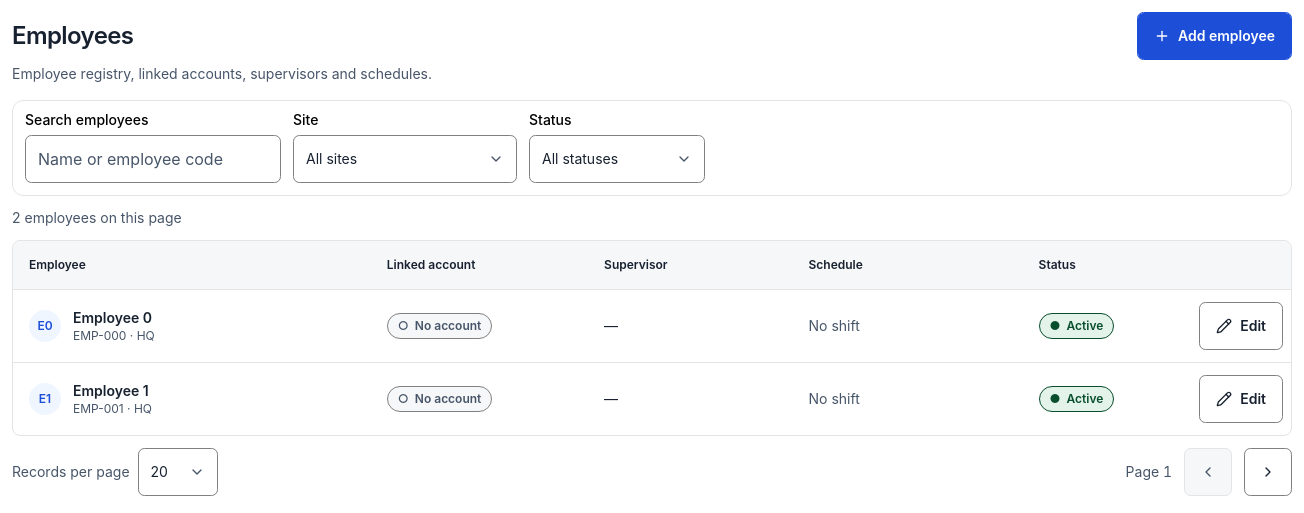
Test case: terminal reset and stalled scans › returns to page 1 once, then offers an explicit, usable recovery
Expected: the text "Employee 0" is shown, [73, 308, 155, 328]
Click the button named "Next page" at coordinates (1268, 472), box [1244, 448, 1292, 496]
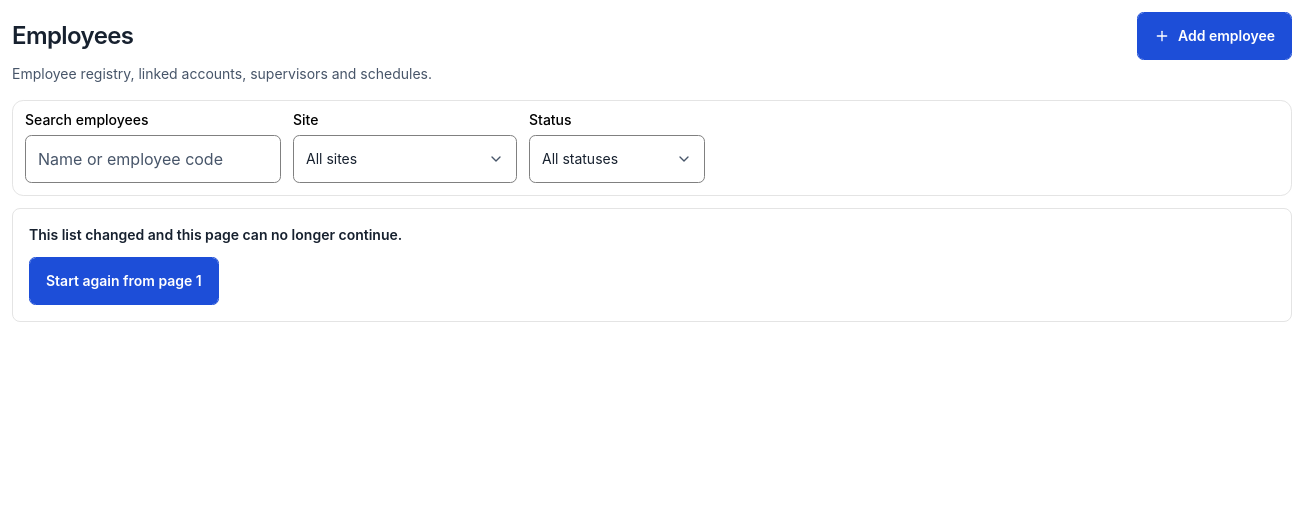
Expected: the message with test id "hr-paged-interrupted" shows "This list changed and this page can no longer continue.", [29, 226, 402, 243]
Expected: the text "Employee 0" is gone
Expected: the button "Edit " is gone
Note: Recovery is a real new request (fresh `attempt`), not a cached one.
Click the button "Start again from page 1" at coordinates (124, 281), box [29, 257, 219, 305]
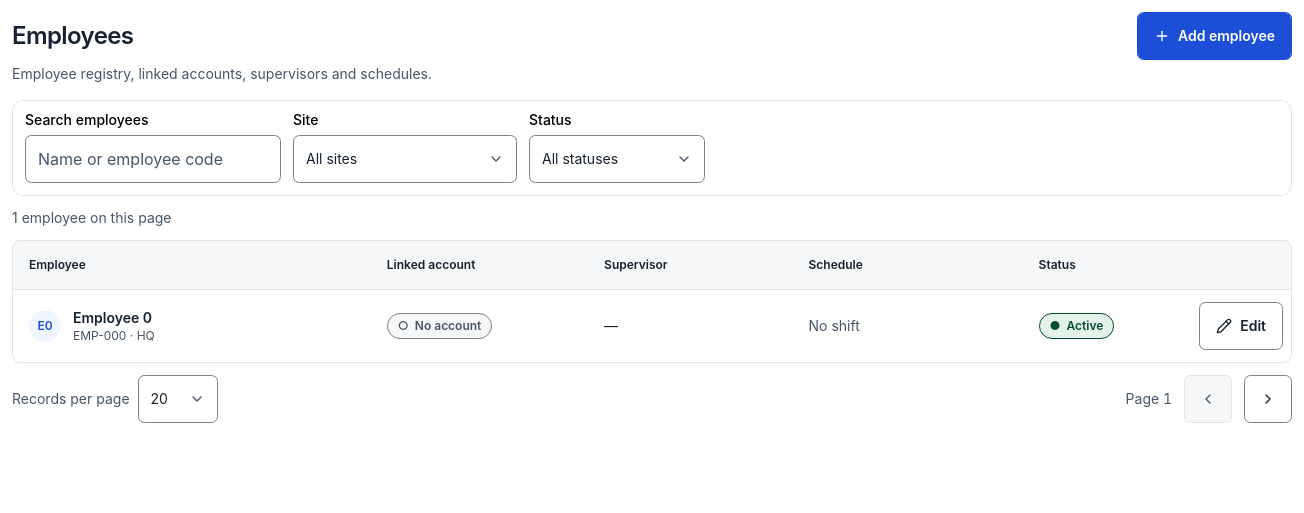
Expected: the button named "Next page" is enabled, [1244, 374, 1292, 422]
Expected: the message with test id "hr-paged-interrupted" is gone
Expected: the text "Employee 0" is shown, [73, 308, 155, 328]
